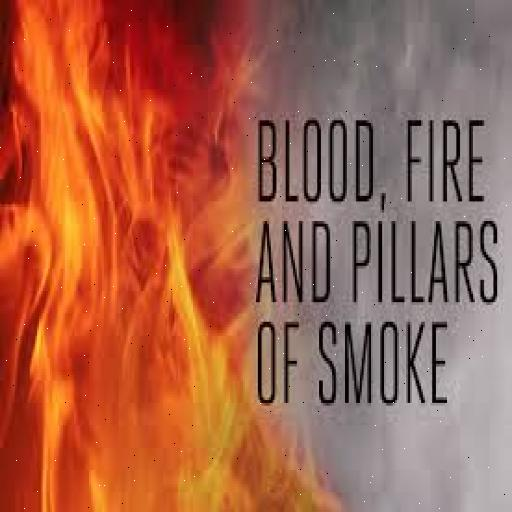fire: (2, 3, 300, 506)
